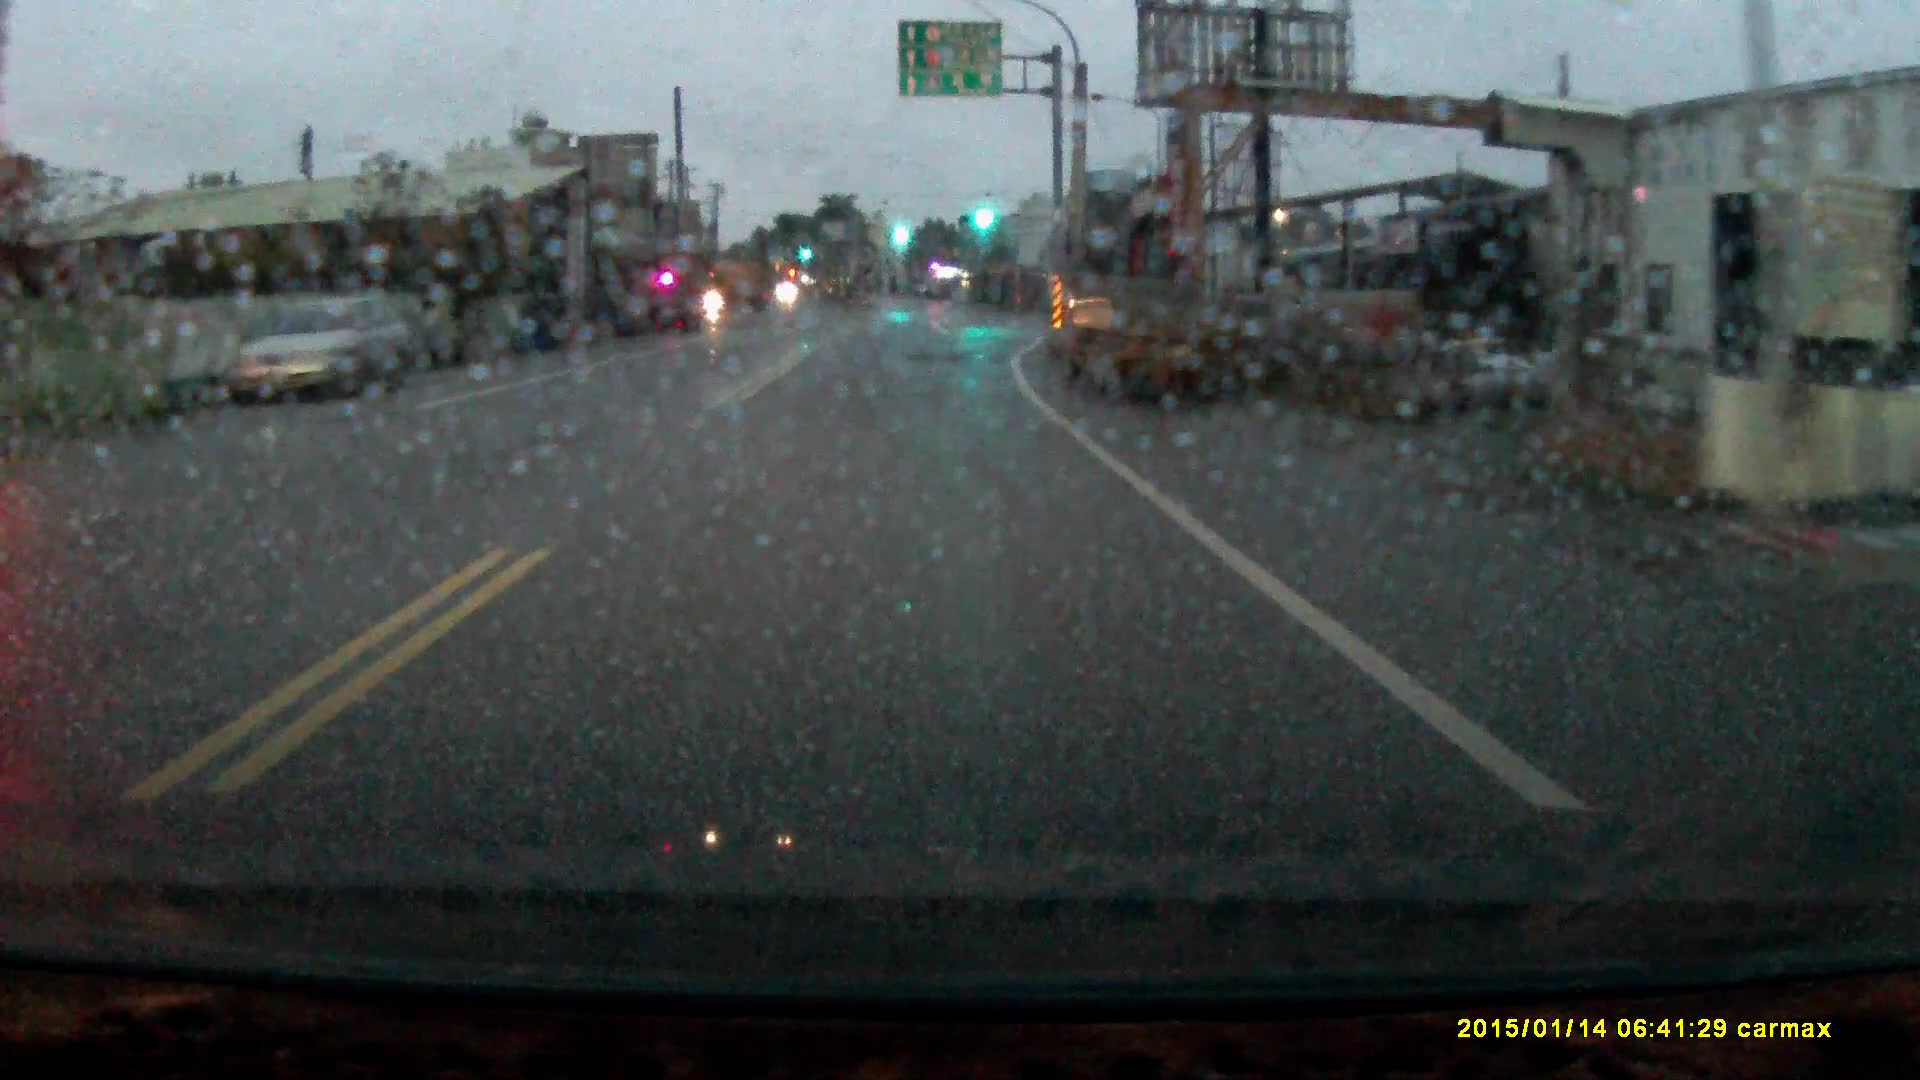vehicle: (1051, 241, 1222, 411), (225, 298, 411, 406), (698, 262, 771, 320)
